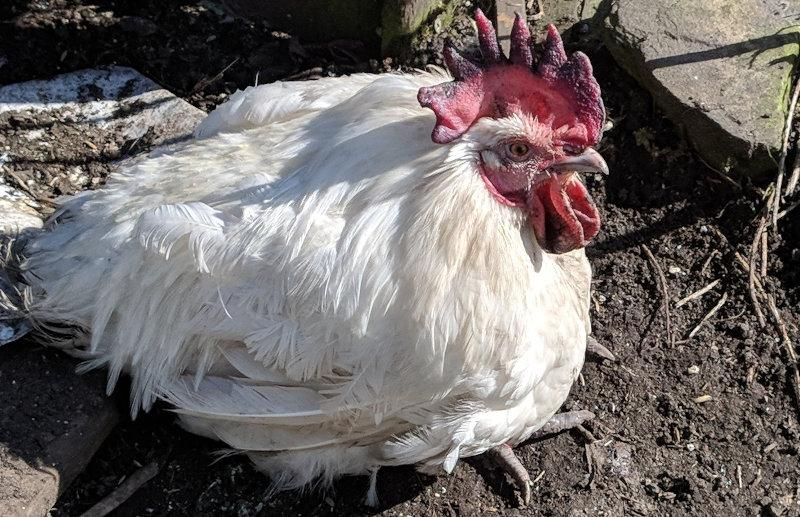AbNormal: (17, 0, 631, 511)
